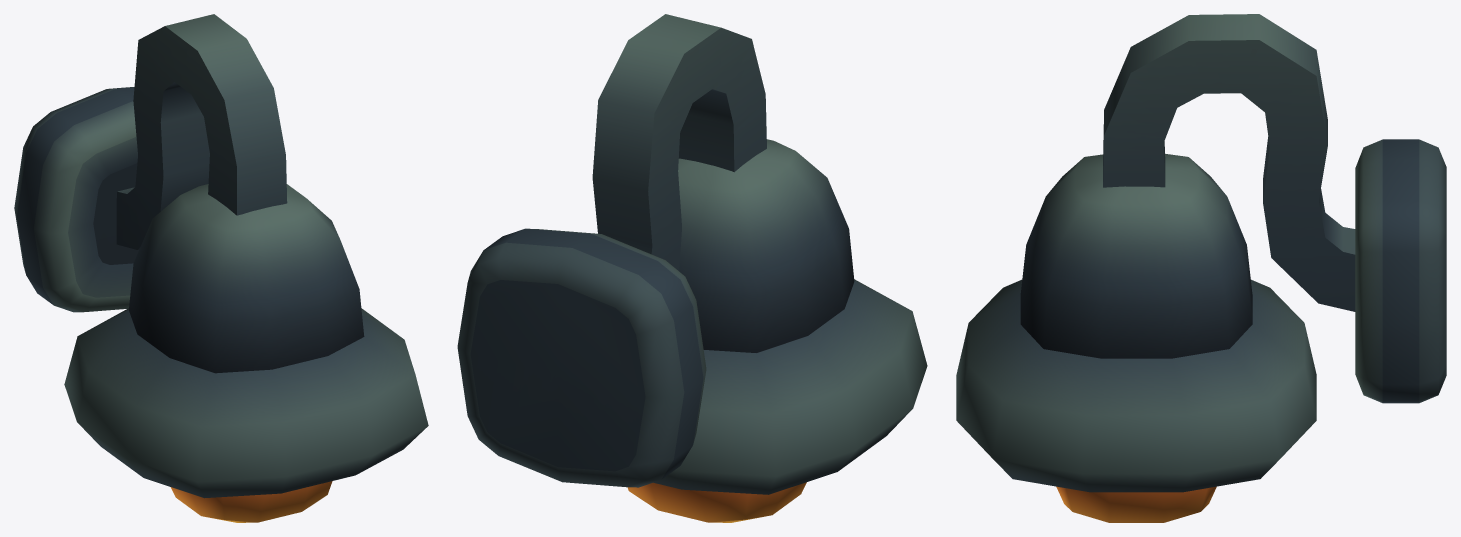
The model's file is lamp_wall2_LOD_setup.fbx.
3 renders of one model, left to right at view 1: azimuth 30°, elevation 25°; view 2: azimuth 150°, elevation 25°; view 3: azimuth 270°, elevation 25°, orthographic. The views are drawn at different scales.
Parts seen in each view (by area): view 1: lamp_wall2_LOD0; view 2: lamp_wall2_LOD0; view 3: lamp_wall2_LOD0.
Part boxes in pixels (left/top/right/bottom): lamp_wall2_LOD0: left=14, top=14, right=428, bottom=522; lamp_wall2_LOD0: left=457, top=14, right=927, bottom=522; lamp_wall2_LOD0: left=956, top=14, right=1446, bottom=522.
Size of what is drawn, in the model's own units: 98.87 by 146 by 134.
